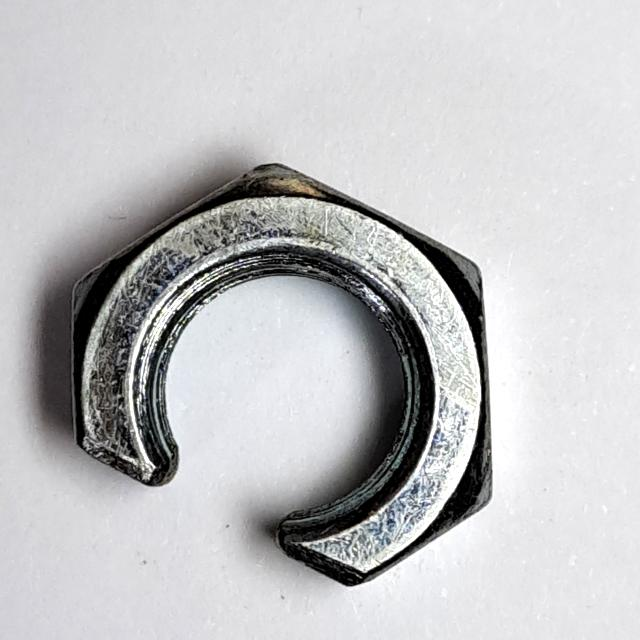Fracture: (53, 145, 520, 609)
